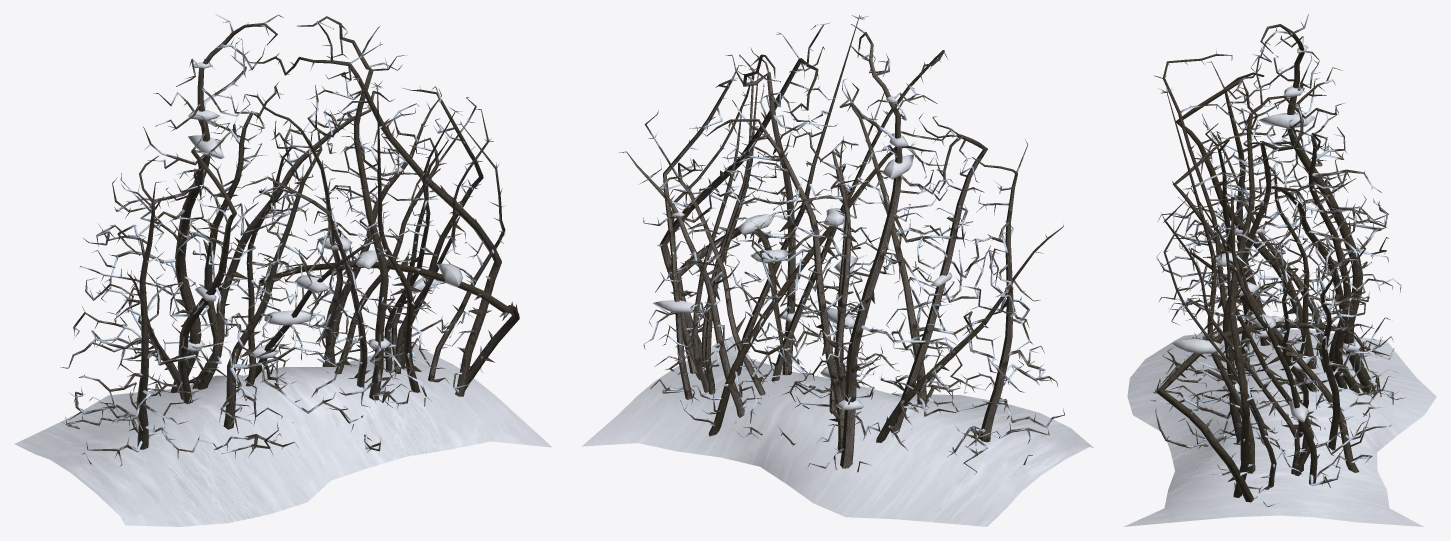
Rendered from lm_thorn_stile.glb.
The picture shows the model from 3 angles, left to right: view 1: azimuth 30°, elevation 25°; view 2: azimuth 150°, elevation 25°; view 3: azimuth 270°, elevation 25°; orthographic projection. The views are drawn at different scales.
Parts seen in each view (by area): view 1: lm_thorn_stile; view 2: lm_thorn_stile; view 3: lm_thorn_stile.
Boxes of the visible parts, x1,y1,x2,y2 form: lm_thorn_stile: [14, 14, 552, 526]; lm_thorn_stile: [582, 15, 1093, 526]; lm_thorn_stile: [1123, 14, 1436, 526].
Size of the model in its own units: 2.7 by 2.54 by 1.78.
1 material, 1 textured.
